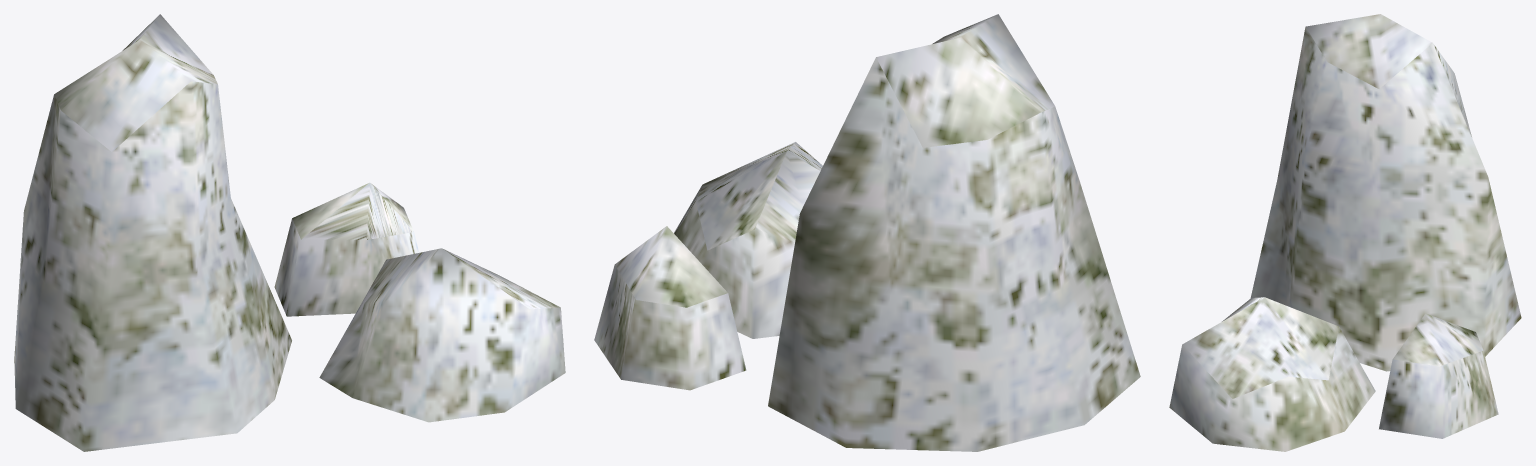
The model's file is Environment - Prop - Rocks 9 - PMRocks09.glb.
The picture shows the model from 3 angles, left to right: view 1: azimuth 30°, elevation 25°; view 2: azimuth 150°, elevation 25°; view 3: azimuth 270°, elevation 25°; orthographic projection. The views are drawn at different scales.
Parts seen in each view (by area): view 1: PMROCKS09; view 2: PMROCKS09; view 3: PMROCKS09.
Part boxes in pixels (x1=…): PMROCKS09: x1=14, y1=14, x2=565, y2=451; PMROCKS09: x1=594, y1=14, x2=1140, y2=451; PMROCKS09: x1=1169, y1=14, x2=1521, y2=451.
Size of the model in its own units: 22.23 by 15.46 by 16.85.
Materials: 1 (1 with a texture image).
